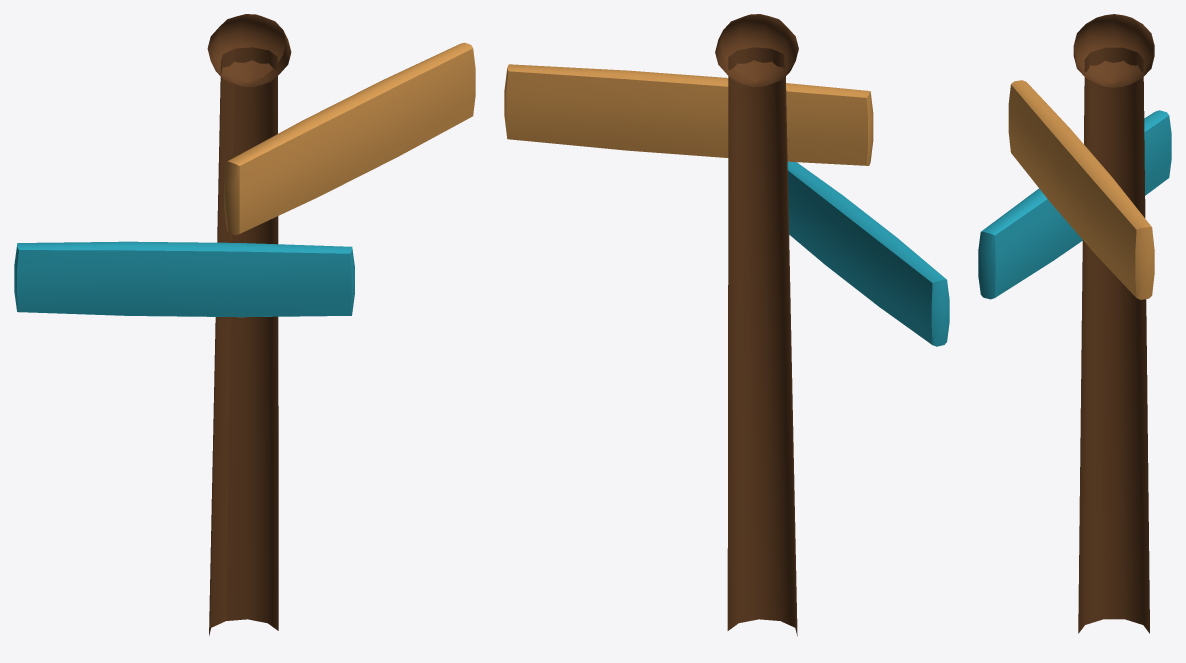
File: signpost.glb
The picture shows the model from 3 angles, left to right: view 1: azimuth 30°, elevation 25°; view 2: azimuth 150°, elevation 25°; view 3: azimuth 270°, elevation 25°; orthographic projection.
Visible parts, largest first — view 1: Signpost; view 2: Signpost; view 3: Signpost.
Boxes of the visible parts, bbox=[...] form: Signpost: bbox=[14, 14, 475, 635]; Signpost: bbox=[504, 14, 949, 636]; Signpost: bbox=[978, 14, 1171, 633].
Size of the model in its own units: 1.6 by 2.09 by 0.5928.
